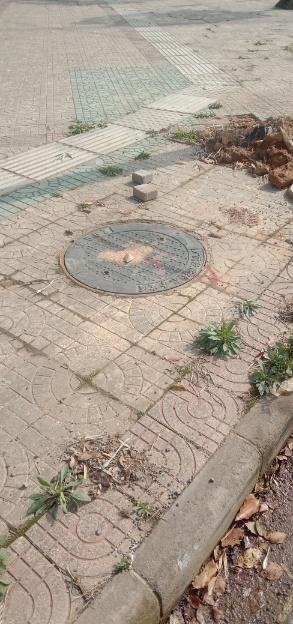wellcover: (45, 216, 223, 290)
